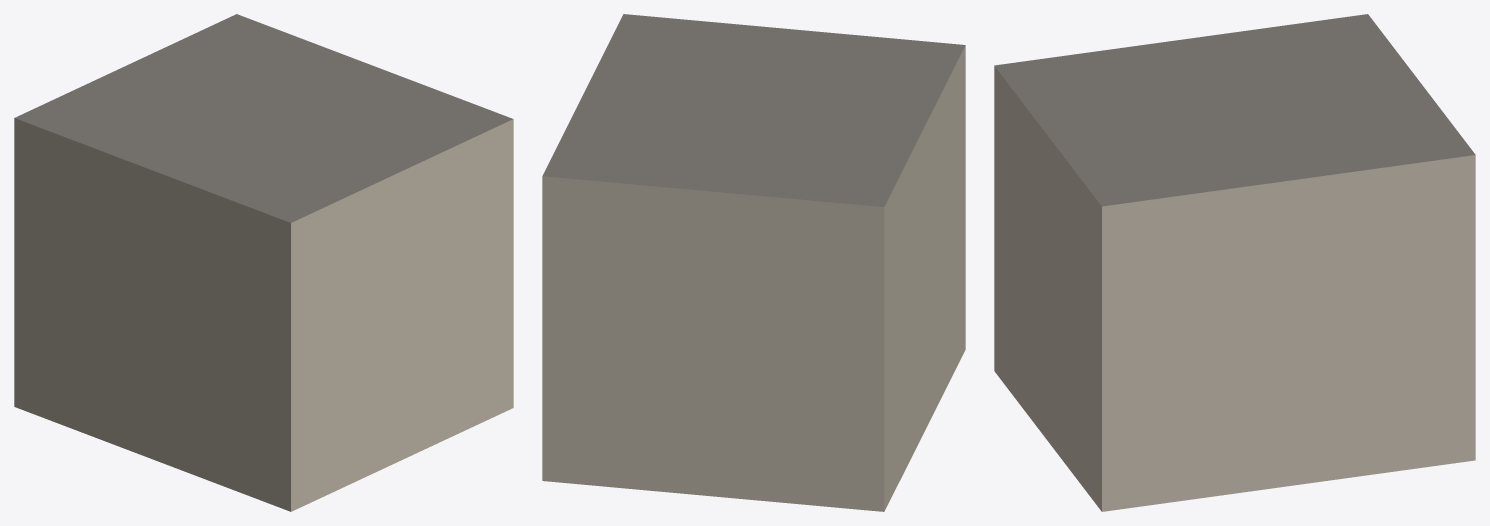
3 renders of one model, left to right at view 1: azimuth 30°, elevation 25°; view 2: azimuth 150°, elevation 25°; view 3: azimuth 270°, elevation 25°, orthographic. The views are drawn at different scales.
Visible parts, largest first — view 1: HP-w1286965197; view 2: HP-w1286965197; view 3: HP-w1286965197.
Part boxes in pixels (bbox=[...]): HP-w1286965197: bbox=[14, 14, 513, 511]; HP-w1286965197: bbox=[542, 14, 965, 511]; HP-w1286965197: bbox=[994, 14, 1475, 511].
Bounding box in the file's own units: 24.34 × 18 × 25.72.
